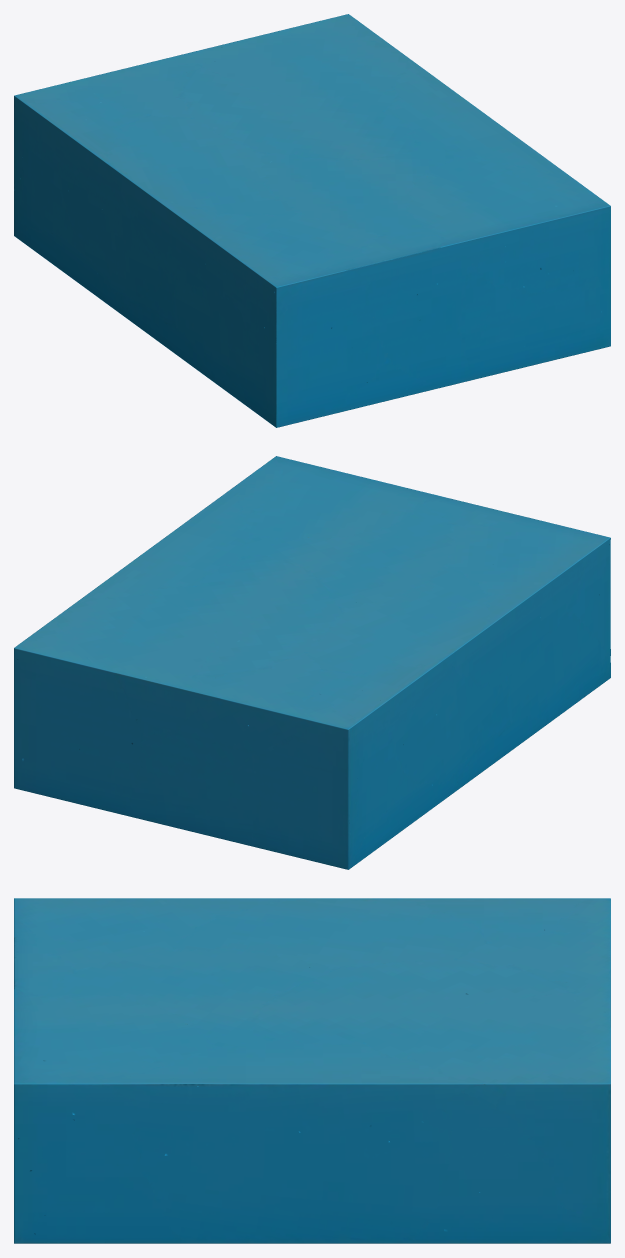
File: rectangulo3d2.glb
The picture shows the model from 3 angles, top to bottom: view 1: azimuth 30°, elevation 25°; view 2: azimuth 150°, elevation 25°; view 3: azimuth 270°, elevation 25°; orthographic projection. The views are drawn at different scales.
Visible parts, largest first — view 1: Object_4; view 2: Object_4; view 3: Object_4.
Part boxes in pixels (left/top/right/bottom): Object_4: left=14, top=14, right=610, bottom=427; Object_4: left=14, top=456, right=610, bottom=869; Object_4: left=14, top=898, right=610, bottom=1243.
Bounding box in the file's own units: 0.6903 × 0.277 × 0.9374.
1 material, 1 textured.
